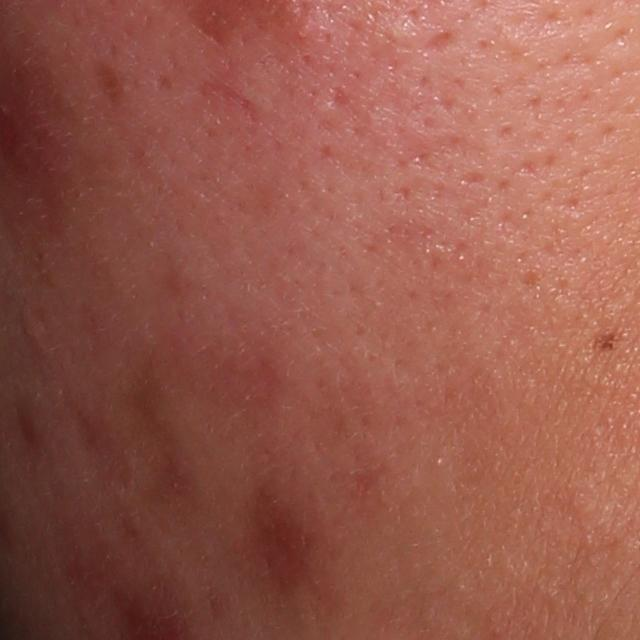atrophic_scar: (415, 26, 459, 56), (327, 86, 355, 113)
nevus: (590, 336, 620, 352)
